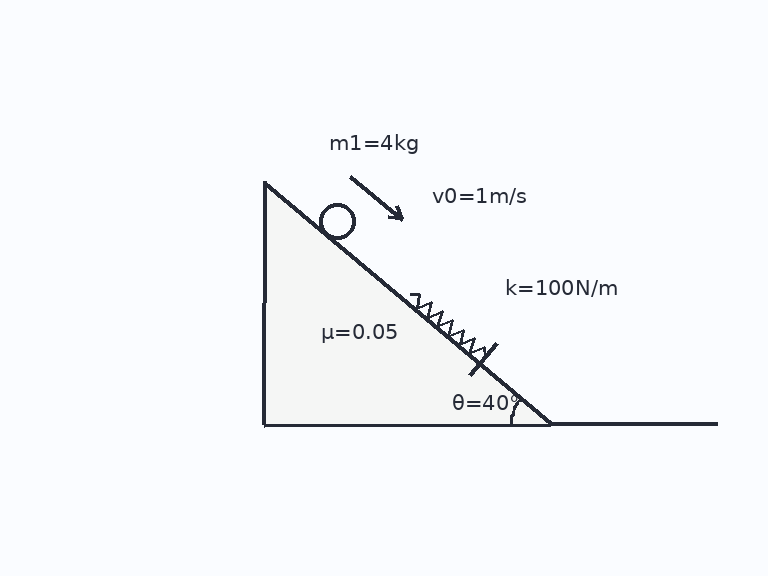ball: (317, 201, 357, 241)
ramp: (262, 181, 553, 426)
spring: (408, 291, 487, 359)
